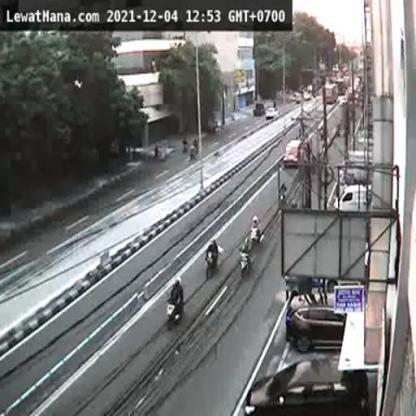car: (244, 354, 374, 415), (284, 291, 344, 353), (263, 106, 281, 121)
motorbike: (164, 274, 190, 330), (234, 237, 257, 279), (204, 238, 221, 280), (250, 213, 265, 248)
